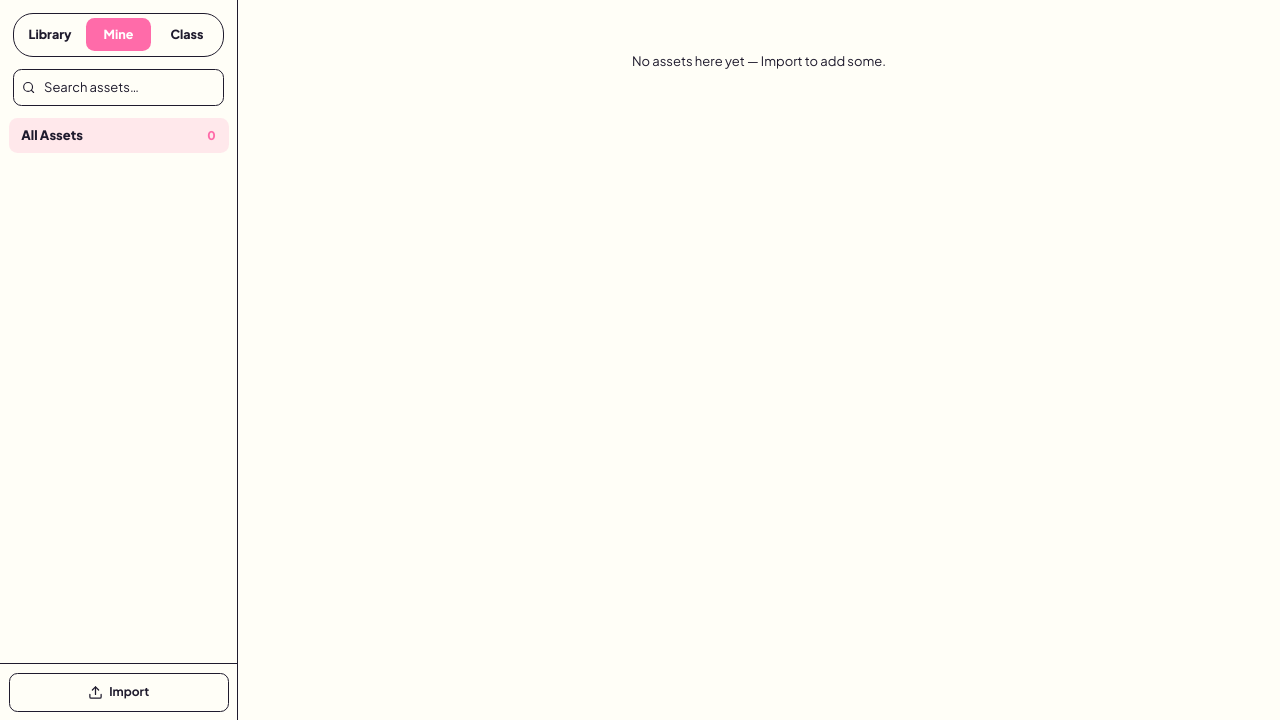
Test: AssetViewerPane — Class tab gating (class-shared-assets-prd) › shows the Class tab and renders the merged grid (course defaults first) when assets are provided
The image size is (1280, 720).
Click the button with test id "asset-source-class" at (187, 35), box [155, 18, 219, 51]
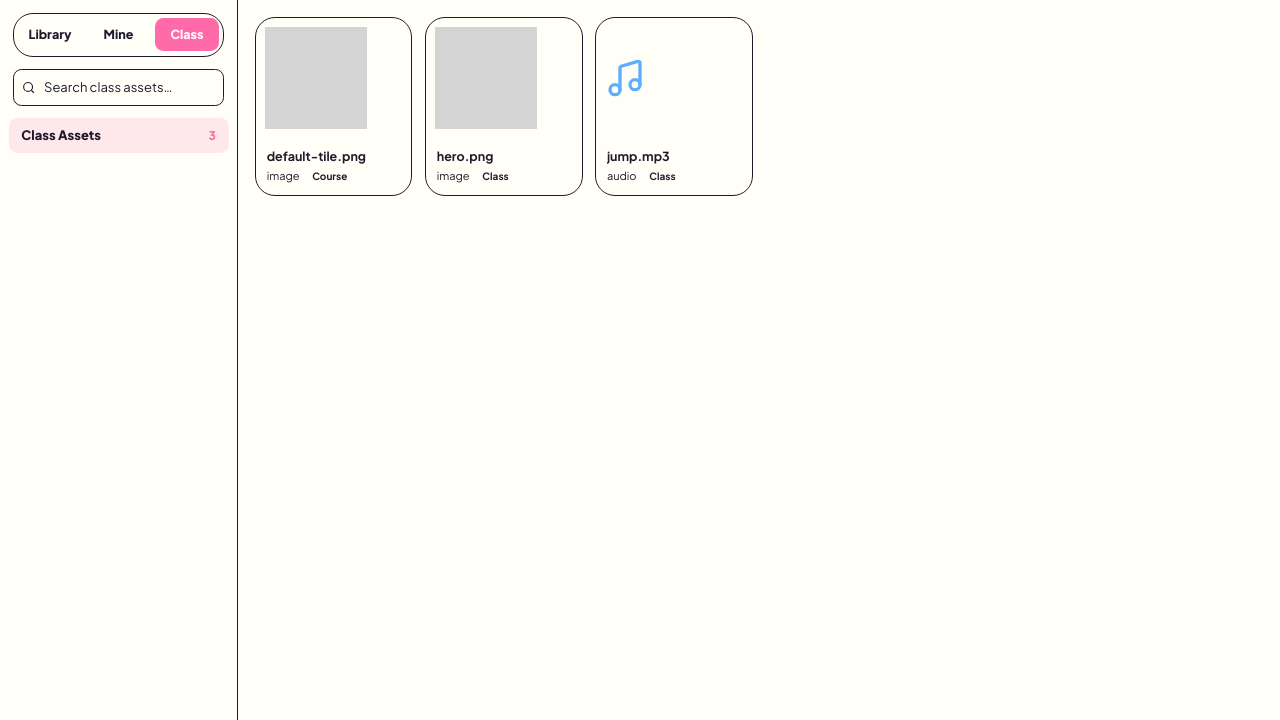
Result: the number of buttons with test id "class-asset-card" is 3 at [255, 17, 412, 196]; [425, 17, 582, 196]; [595, 17, 753, 196]
Result: the button with test id "class-asset-card" shows "default-tile.png" at [255, 17, 412, 196]
Result: the button with test id "class-asset-card" shows "hero.png" at [425, 17, 582, 196]
